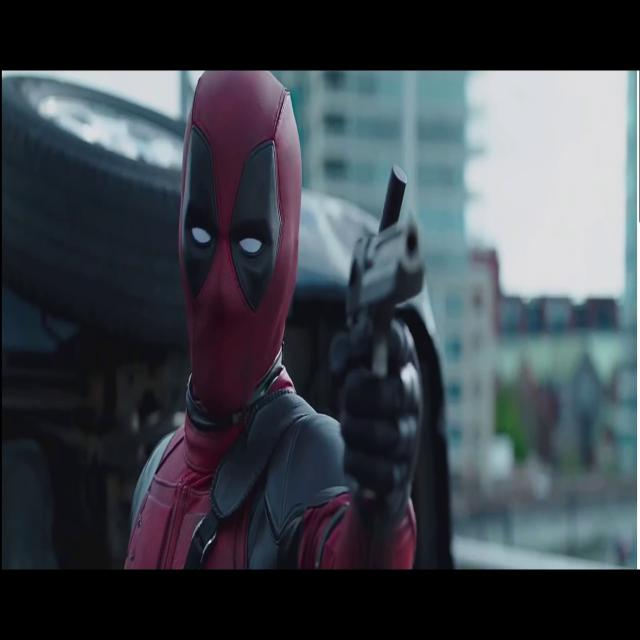weapons: (336, 203, 442, 452)
